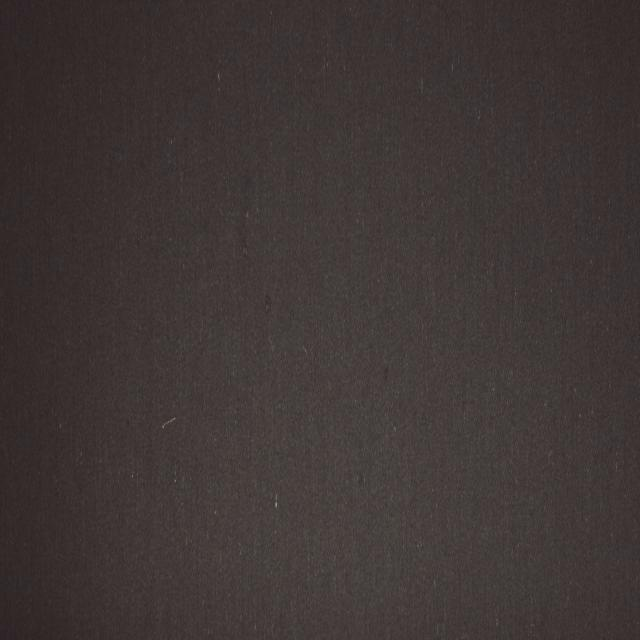pulled_or_thick_thread: (274, 489, 279, 515)
